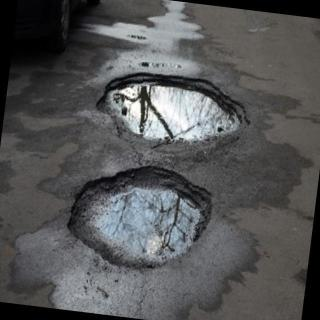pothole: (67, 166, 212, 257), (96, 72, 250, 143)
